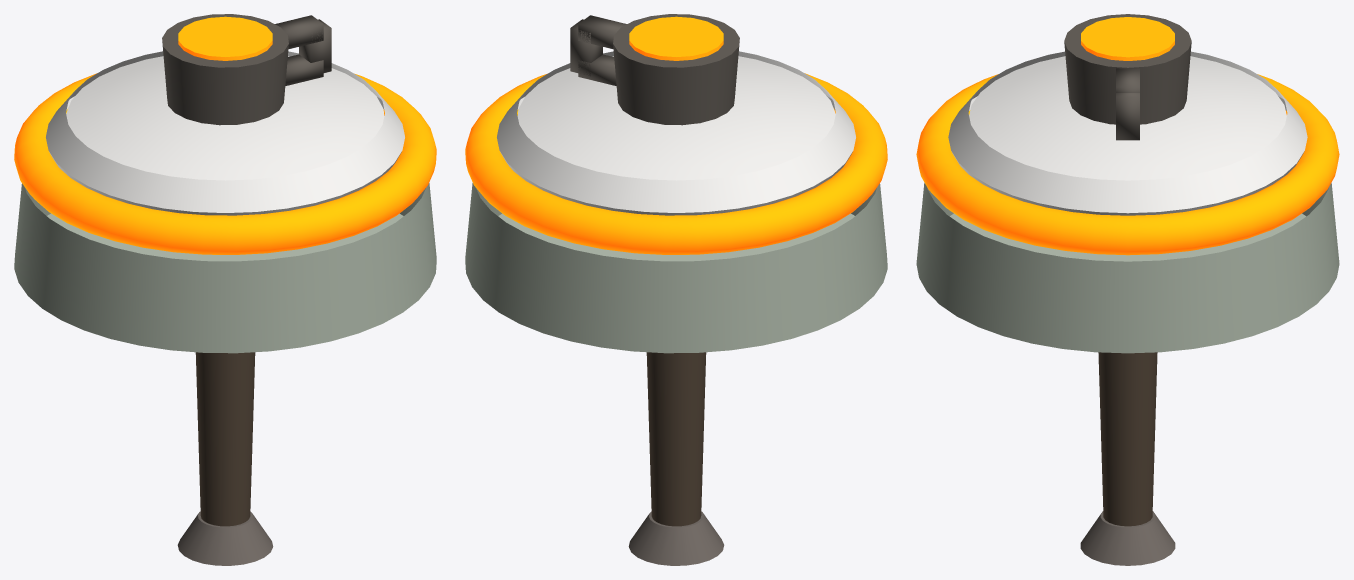
Rendered from poi-cafe.glb.
3 views of the same model, side by side, from view 1: azimuth 30°, elevation 25°; view 2: azimuth 150°, elevation 25°; view 3: azimuth 270°, elevation 25° (orthographic).
Visible parts, largest first — view 1: cafe_head, cafe_plate_dome, cafe_ring, cafe_plate_bevel, cafe_stem, cafe_cup, cafe_foot, cafe_coffee, cafe_collar, cafe_plate_wall, cafe_h_top, cafe_h_bot (+1 smaller); view 2: cafe_head, cafe_plate_dome, cafe_ring, cafe_plate_bevel, cafe_stem, cafe_cup, cafe_foot, cafe_coffee, cafe_collar, cafe_plate_wall, cafe_h_top, cafe_h_side (+1 smaller); view 3: cafe_head, cafe_plate_dome, cafe_ring, cafe_plate_bevel, cafe_stem, cafe_cup, cafe_foot, cafe_coffee, cafe_collar, cafe_plate_wall, cafe_h_side, cafe_h_top.
Boxes of the visible parts, x1,y1,x2,y2 form: cafe_head: [14, 183, 436, 353]; cafe_plate_dome: [66, 56, 384, 180]; cafe_ring: [14, 73, 436, 254]; cafe_plate_bevel: [46, 51, 404, 212]; cafe_stem: [195, 352, 255, 526]; cafe_cup: [162, 14, 288, 125]; cafe_foot: [177, 511, 273, 565]; cafe_coffee: [178, 16, 272, 60]; cafe_collar: [137, 247, 313, 261]; cafe_plate_wall: [49, 96, 401, 215]; cafe_h_top: [275, 15, 323, 49]; cafe_h_bot: [285, 54, 323, 85]; cafe_head: [465, 183, 887, 353]; cafe_plate_dome: [517, 56, 835, 180]; cafe_ring: [465, 73, 887, 254]; cafe_plate_bevel: [497, 51, 855, 212]; cafe_stem: [646, 352, 706, 526]; cafe_cup: [613, 14, 739, 125]; cafe_foot: [628, 511, 724, 565]; cafe_coffee: [629, 16, 723, 60]; cafe_collar: [588, 247, 764, 261]; cafe_plate_wall: [500, 96, 852, 215]; cafe_h_top: [578, 15, 626, 49]; cafe_h_side: [570, 19, 602, 76]; cafe_head: [916, 183, 1339, 353]; cafe_plate_dome: [969, 56, 1286, 180]; cafe_ring: [916, 74, 1339, 255]; cafe_plate_bevel: [948, 51, 1307, 213]; cafe_stem: [1098, 352, 1157, 526]; cafe_cup: [1064, 14, 1191, 124]; cafe_foot: [1080, 511, 1175, 565]; cafe_coffee: [1081, 17, 1174, 60]; cafe_collar: [1039, 247, 1216, 261]; cafe_plate_wall: [951, 96, 1304, 215]; cafe_h_side: [1116, 93, 1139, 140]; cafe_h_top: [1116, 68, 1139, 92].
Size of the model in its own units: 0.796 by 1.06 by 0.796.
